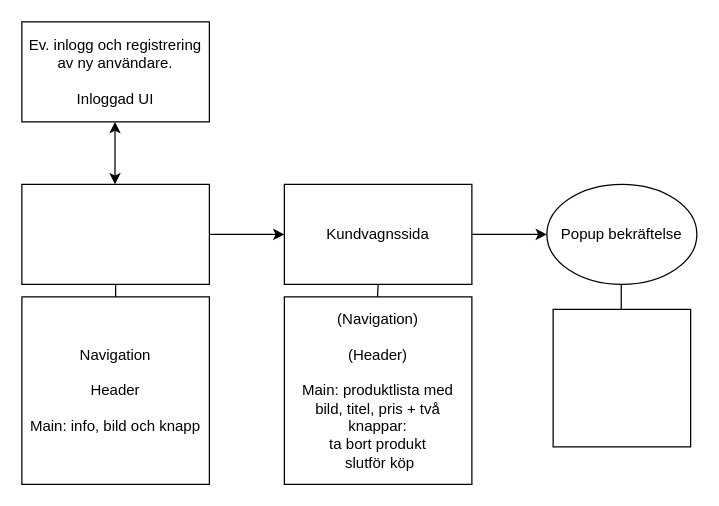
Some shapes in this 719 by 506 pixel diagram are drawn without their labels. The shapes that lost their labels are listed below. From the top down, each one's centre as x and y in pixels, then its label:
(115,233): Startsida
(621,377): (Navigation) (Header) Orderbekräftelse
